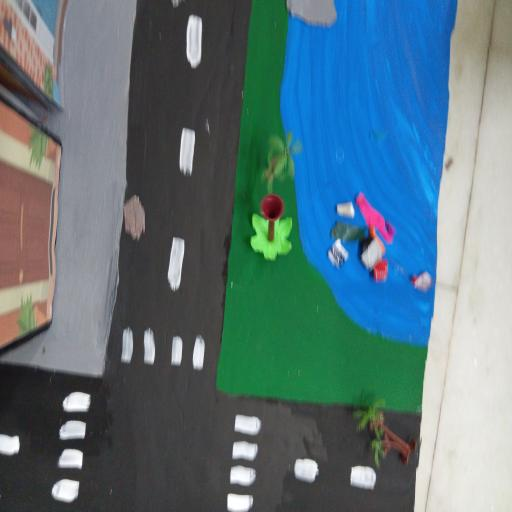encroachment: (284, 0, 338, 31)
fallen trees: (350, 394, 420, 470), (251, 192, 295, 262)
porthole: (122, 198, 150, 240)
trash: (328, 187, 434, 301)
